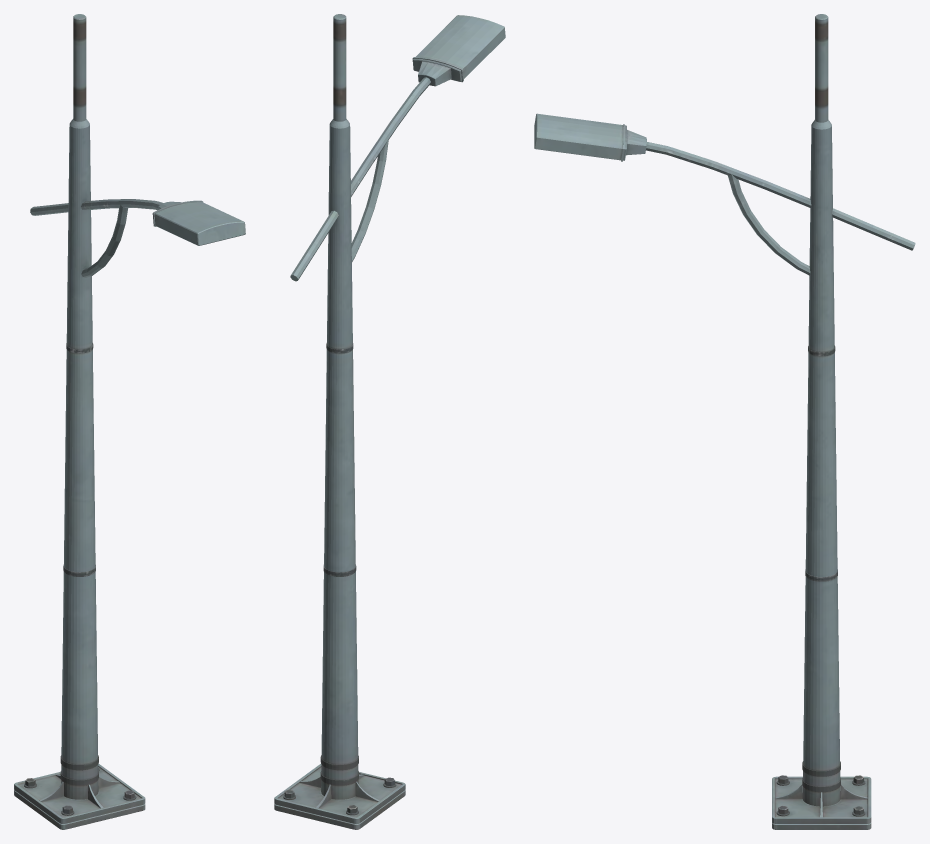
Rendered from strAsset_15.glb.
The picture shows the model from 3 angles, left to right: view 1: azimuth 30°, elevation 25°; view 2: azimuth 150°, elevation 25°; view 3: azimuth 270°, elevation 25°; orthographic projection.
Parts seen in each view (by area): view 1: geometry_0; view 2: geometry_0; view 3: geometry_0.
Part boxes in pixels (bbox=[...]): geometry_0: bbox=[14, 14, 245, 829]; geometry_0: bbox=[274, 14, 505, 829]; geometry_0: bbox=[534, 14, 915, 829].
Bounding box in the file's own units: 0.1455 × 1.28 × 0.5597.
1 material, 1 textured.
